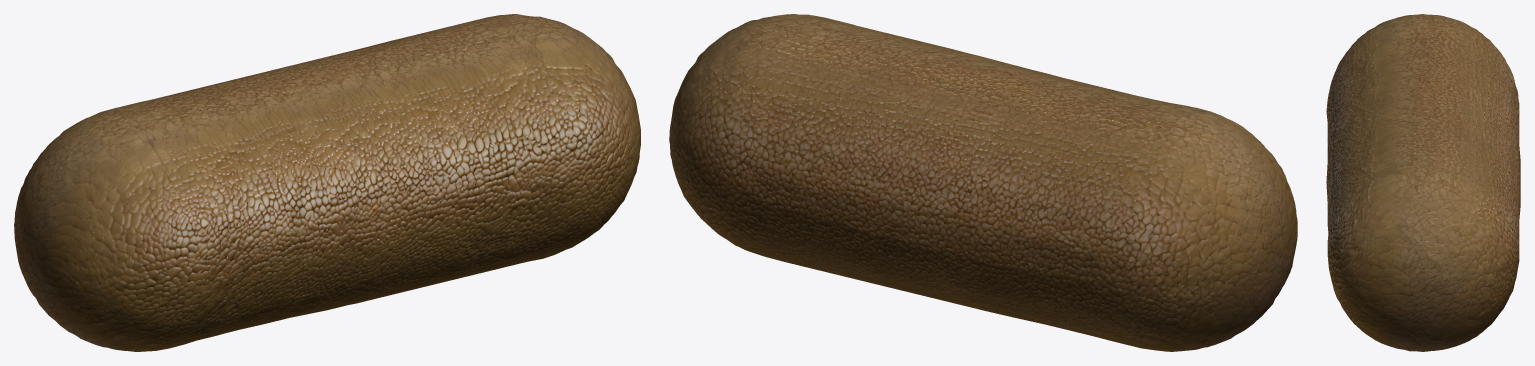
File: neck.glb
3 views of the same model, side by side, from view 1: azimuth 30°, elevation 25°; view 2: azimuth 150°, elevation 25°; view 3: azimuth 270°, elevation 25° (orthographic). The views are drawn at different scales.
Visible parts, largest first — view 1: tripo_node_b7968b64-30bd-41c2-9280-4d809c02039e; view 2: tripo_node_b7968b64-30bd-41c2-9280-4d809c02039e; view 3: tripo_node_b7968b64-30bd-41c2-9280-4d809c02039e.
Boxes of the visible parts, box(x1,y1,x2,y2) form: tripo_node_b7968b64-30bd-41c2-9280-4d809c02039e: box(14, 14, 640, 351); tripo_node_b7968b64-30bd-41c2-9280-4d809c02039e: box(669, 14, 1297, 351); tripo_node_b7968b64-30bd-41c2-9280-4d809c02039e: box(1326, 14, 1520, 351).
Bounding box in the file's own units: 0.998 × 0.3574 × 0.3613.
Materials: 1 (1 with a texture image).
